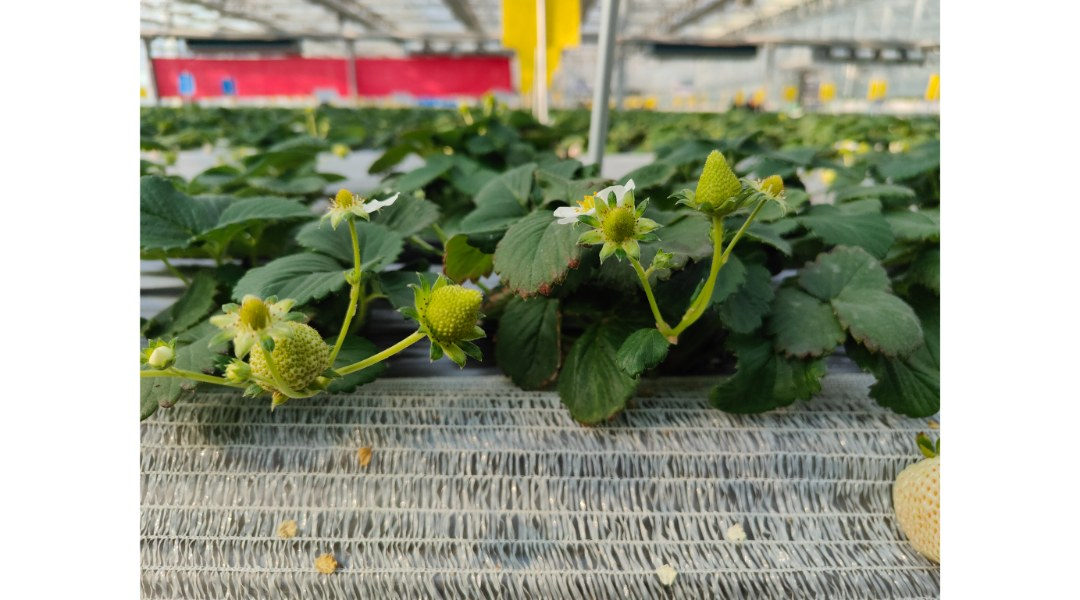berry: (408, 263, 495, 376), (244, 324, 334, 395), (581, 194, 658, 267), (214, 284, 298, 343), (683, 141, 749, 213), (310, 182, 393, 225), (142, 312, 186, 375), (756, 165, 791, 211)
flower: (547, 176, 647, 219)
strain: (349, 333, 417, 390), (344, 230, 365, 361), (629, 259, 667, 331)
